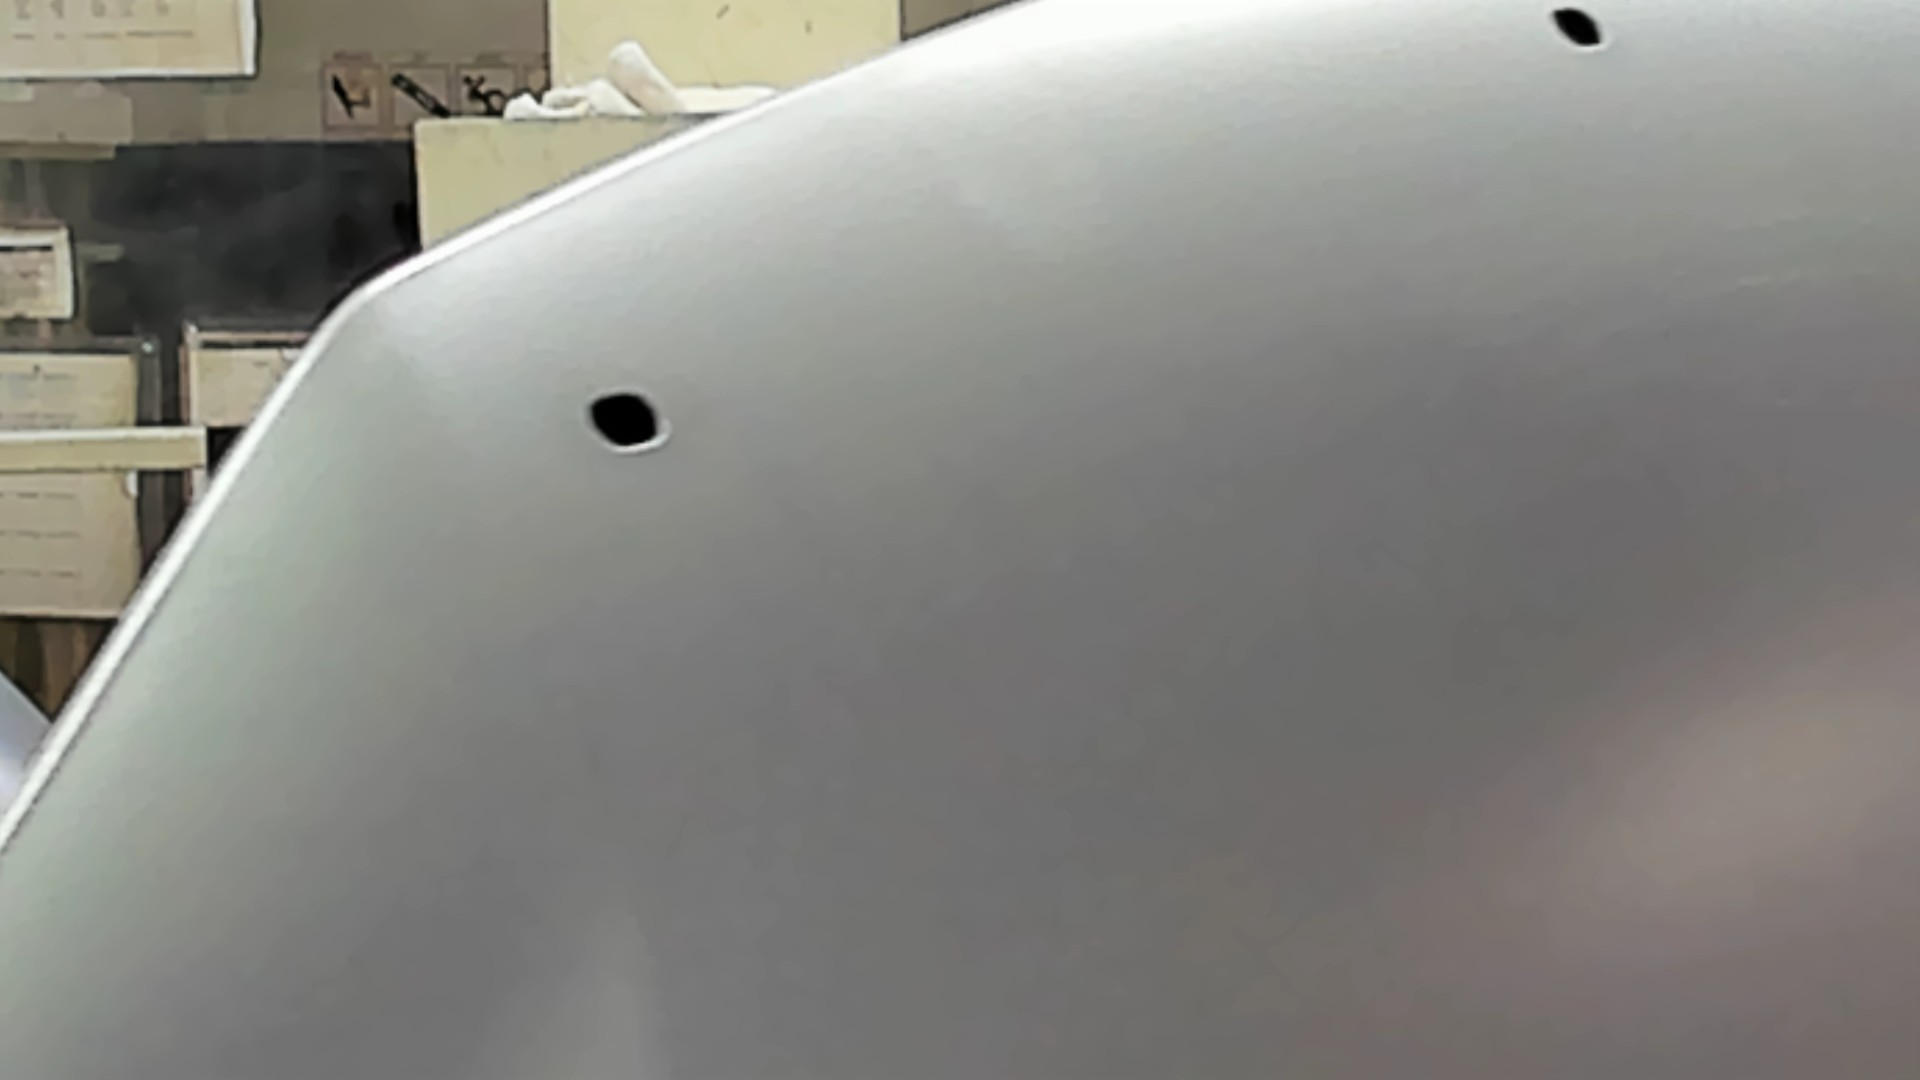amorfo: (579, 386, 669, 454), (1549, 1, 1614, 63)
